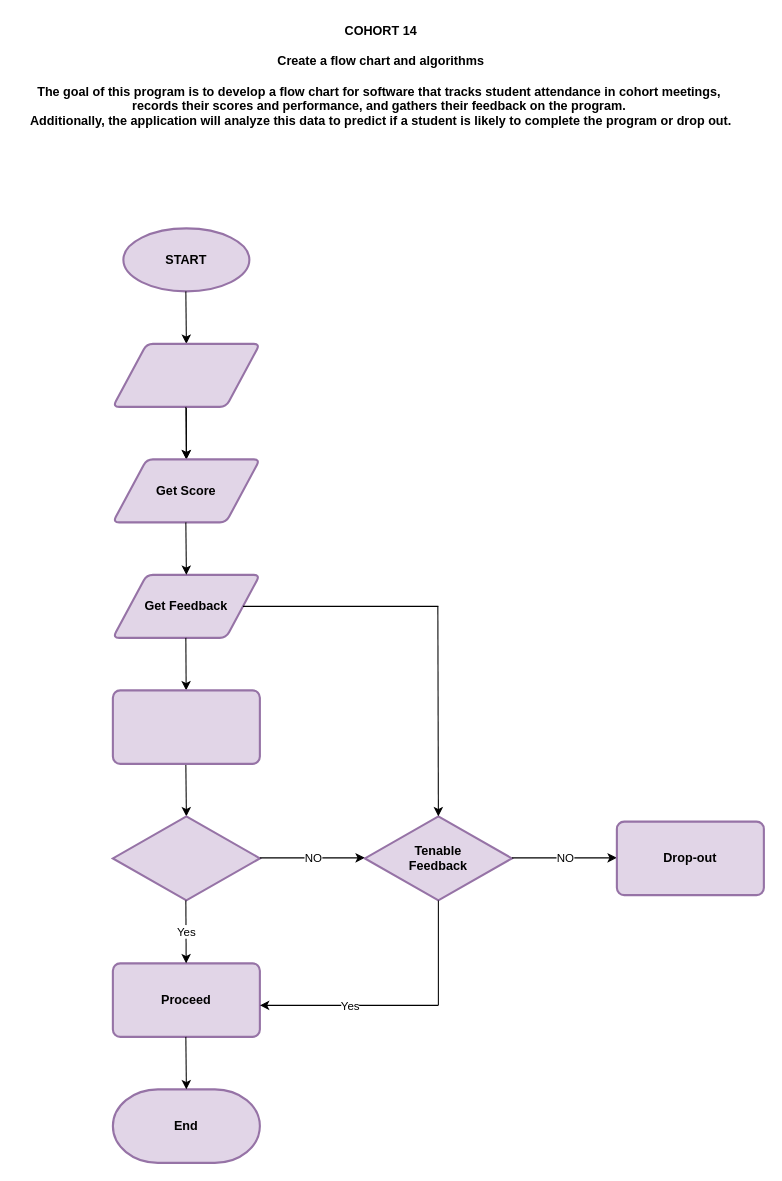
The diagram is 782 pixels wide and 1181 high, and some of its shapes have lost their labels. The shapes that lost their labels are listed below. From the top down, each one's centre as x and y in pixels, then its label:
the point at 185,374: Get Attendance
the point at 185,726: Evaluate Total_score as Attendance + Score
the point at 185,858: Total_Score >60%
